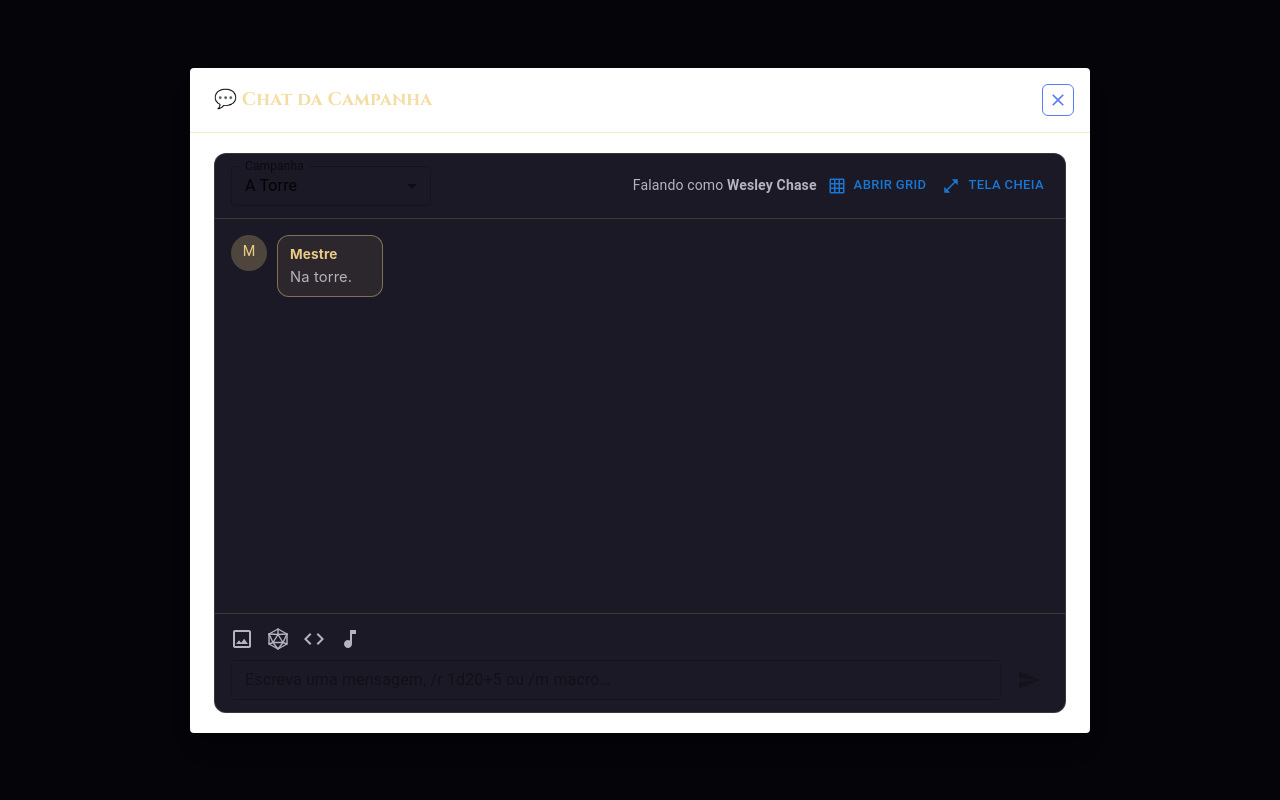
ChatModal (menu Social da ficha) › com mais de uma campanha, permite trocar a sala
Expected: the text "Na torre." is shown, [290, 268, 352, 286]
Press the mouse on the dropdown named "campanha" at (271, 186), box [245, 176, 297, 195]
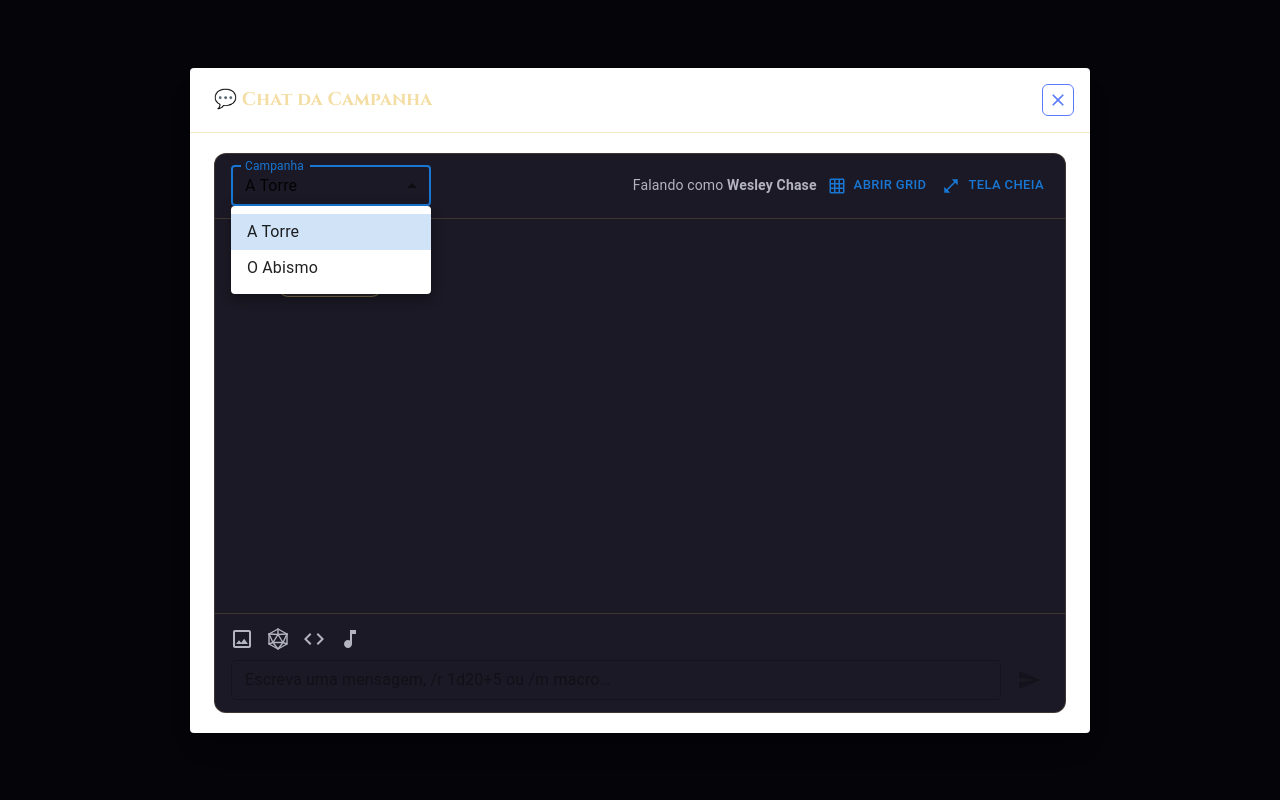
Click the option "O Abismo". click: (282, 268)
box: [247, 258, 318, 277]
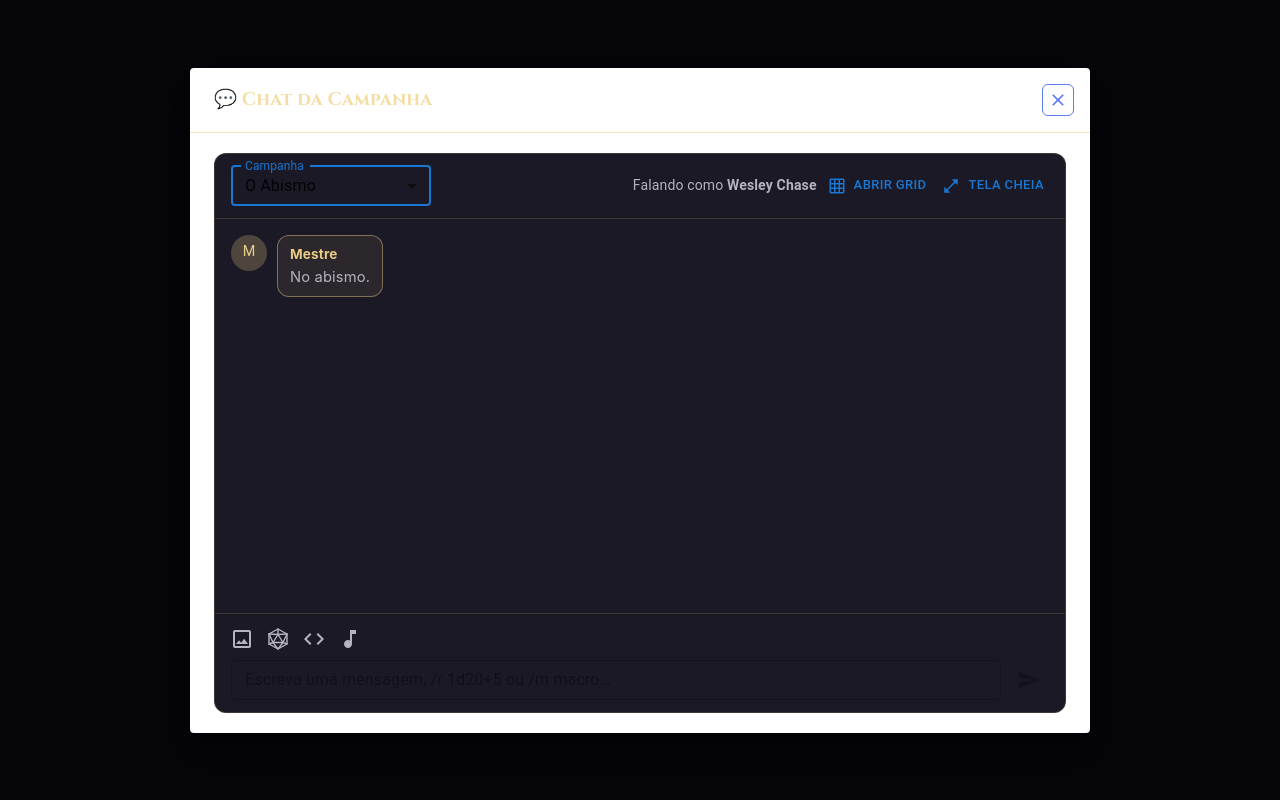
Result: the text "No abismo." is shown at [290, 266, 370, 288]
